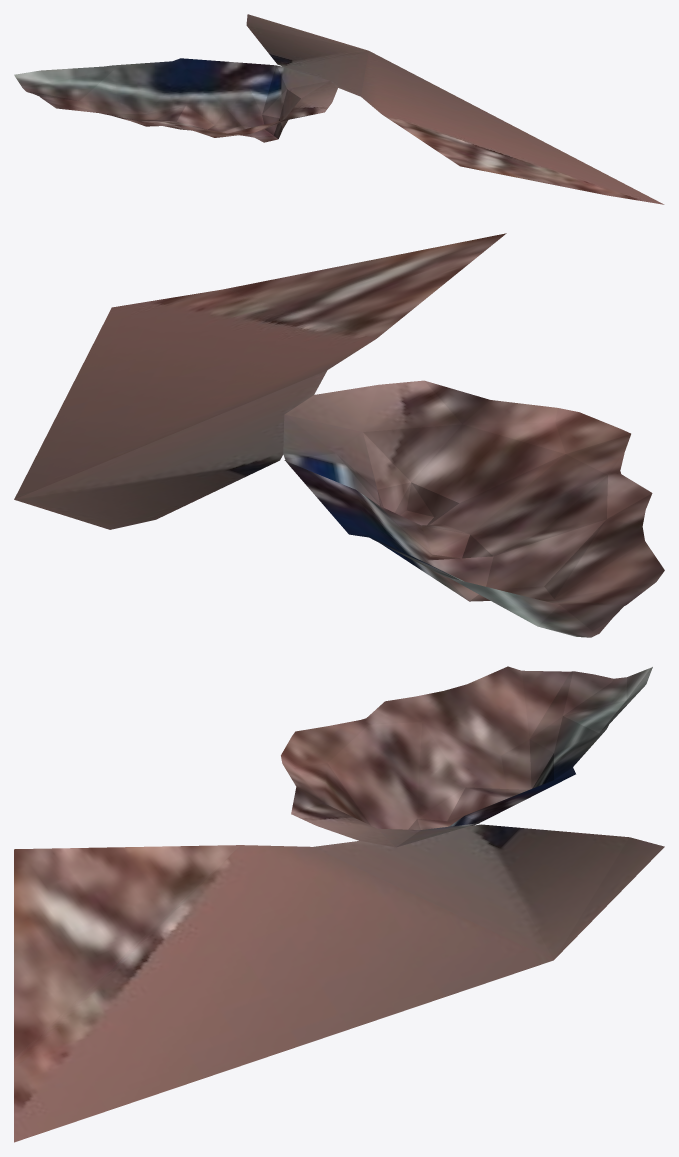
3 views of the same model, one above another, from view 1: azimuth 30°, elevation 25°; view 2: azimuth 150°, elevation 25°; view 3: azimuth 270°, elevation 25° (orthographic). The views are drawn at different scales.
Size of the model in its own units: 1.59 by 0.3016 by 1.29.
Materials: 1 (1 with a texture image).
